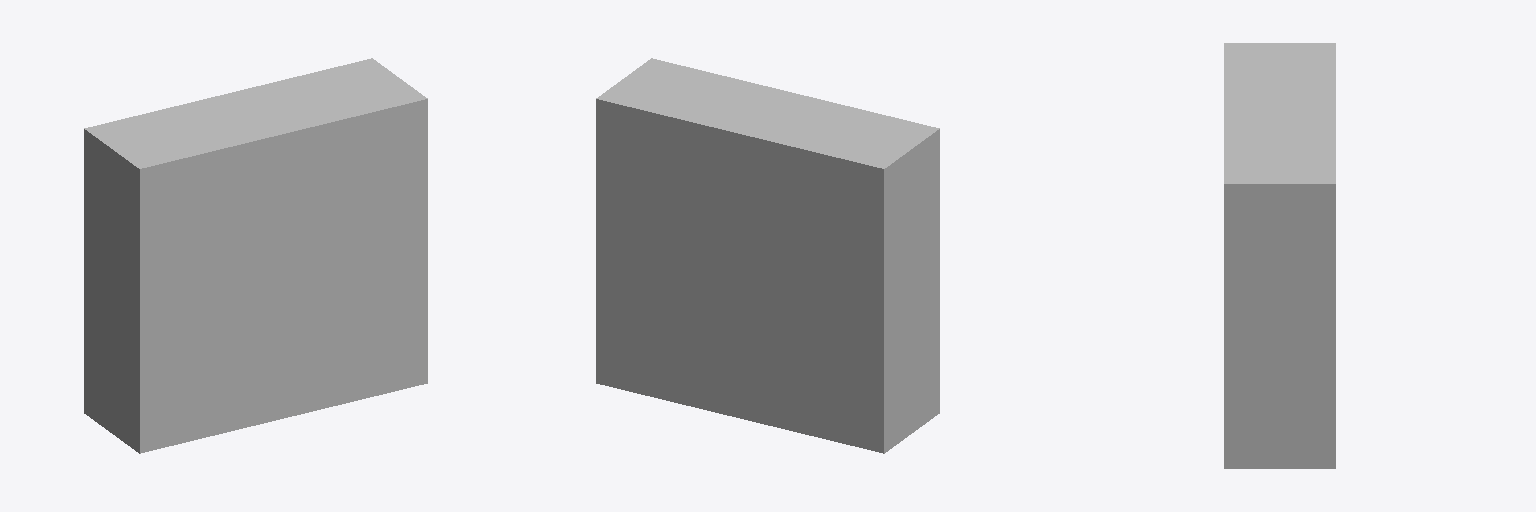
The model's file is GridFoundation_arch_diagonal.obj.
3 renders of one model, left to right at view 1: azimuth 30°, elevation 25°; view 2: azimuth 150°, elevation 25°; view 3: azimuth 270°, elevation 25°, orthographic.
Parts seen in each view (by area): view 1: GridFoundation_arch_diagonal; view 2: GridFoundation_arch_diagonal; view 3: GridFoundation_arch_diagonal.
Part boxes in pixels (bbox=[...]): GridFoundation_arch_diagonal: bbox=[84, 58, 427, 453]; GridFoundation_arch_diagonal: bbox=[596, 58, 939, 453]; GridFoundation_arch_diagonal: bbox=[1224, 43, 1335, 468].
Size of the model in its own units: 12.73 by 12 by 4.24.